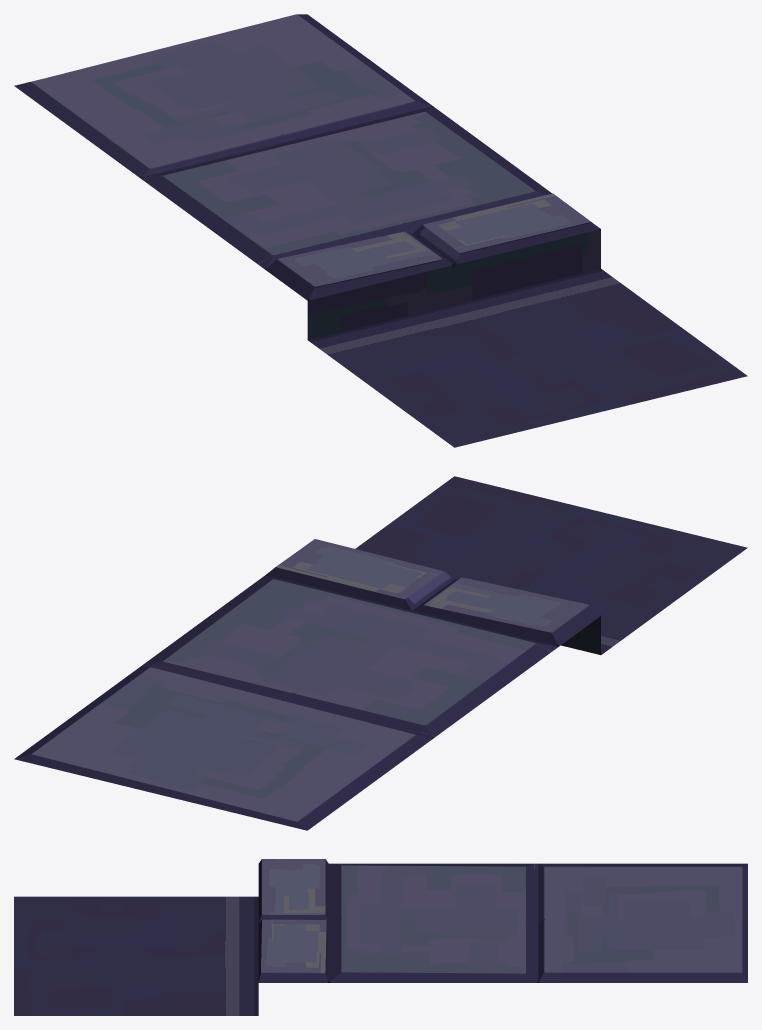
Rendered from Route_Basic2.fbx.
The picture shows the model from 3 angles, top to bottom: view 1: azimuth 30°, elevation 25°; view 2: azimuth 150°, elevation 25°; view 3: azimuth 270°, elevation 25°; orthographic projection. The views are drawn at different scales.
Visible parts, largest first — view 1: Plane.003; view 2: Plane.003; view 3: Plane.003.
Part boxes in pixels (bbox=[...]): Plane.003: bbox=[14, 14, 747, 447]; Plane.003: bbox=[14, 476, 747, 830]; Plane.003: bbox=[14, 859, 747, 1015].
Bounding box in the file's own units: 218 × 35.16 × 566.
Materials: 1 (1 with a texture image).
